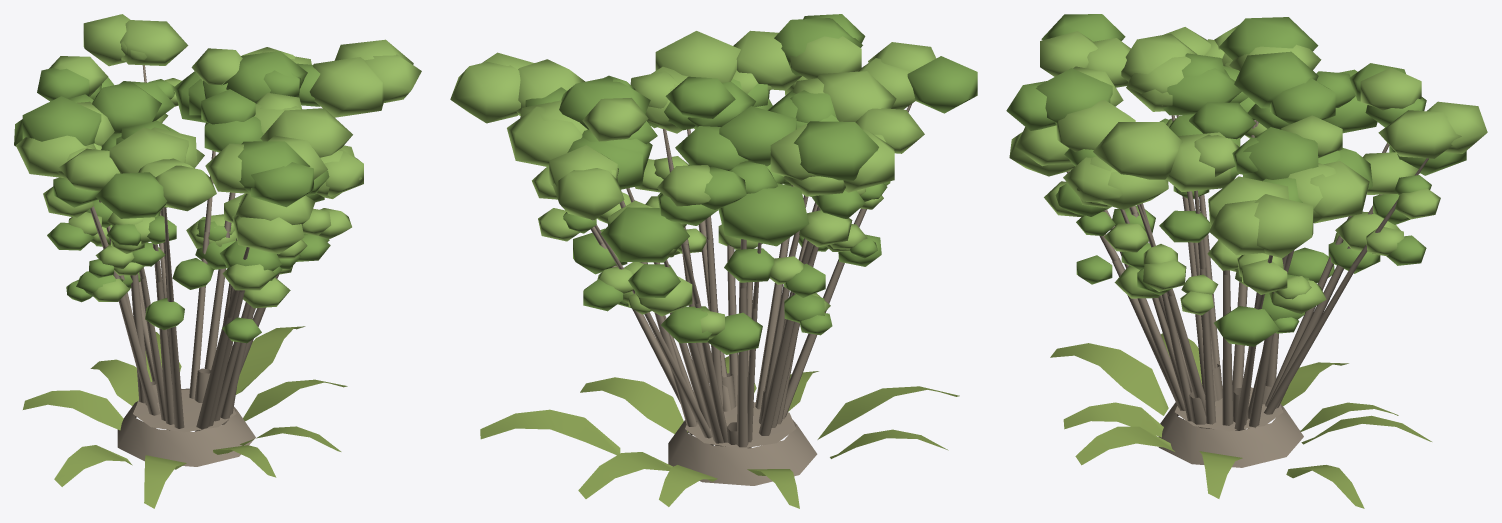
Rendered from thicket-hazel.glb.
3 renders of one model, left to right at view 1: azimuth 30°, elevation 25°; view 2: azimuth 150°, elevation 25°; view 3: azimuth 270°, elevation 25°, orthographic. The views are drawn at different scales.
Parts seen in each view (by area): view 1: bark; view 2: bark; view 3: bark.
Boxes of the visible parts, <box> form: bark: <box>14,14,421,508</box>; bark: <box>450,14,977,508</box>; bark: <box>1006,14,1487,508</box>.
Size of the model in its own units: 2.5 by 2.02 by 2.44.
